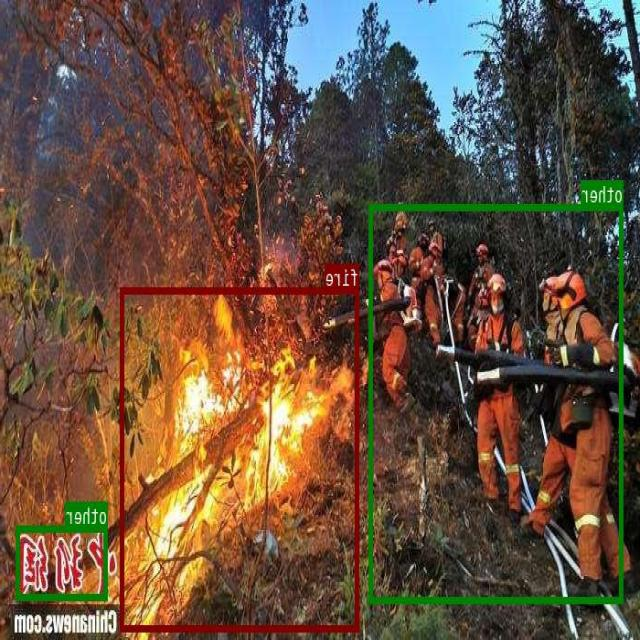fire: (121, 287, 359, 631)
other: (370, 203, 624, 602), (17, 524, 108, 599)
